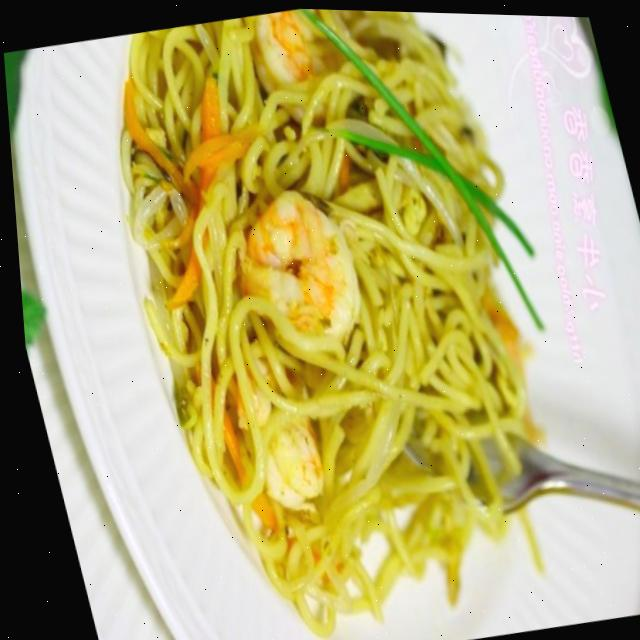面条主食: (74, 2, 627, 640)
